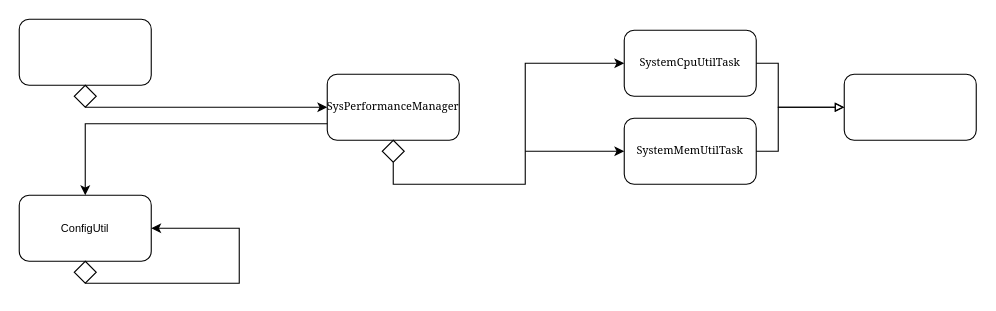
This 996x311 diagram has some shape labels left out. The box of each missing label's shape, as (x1, y1, x2, y2) in pixels:
BaseSystemUtilTask: (843, 73, 976, 140)
ConstrainedDeviceApp: (18, 18, 151, 85)
